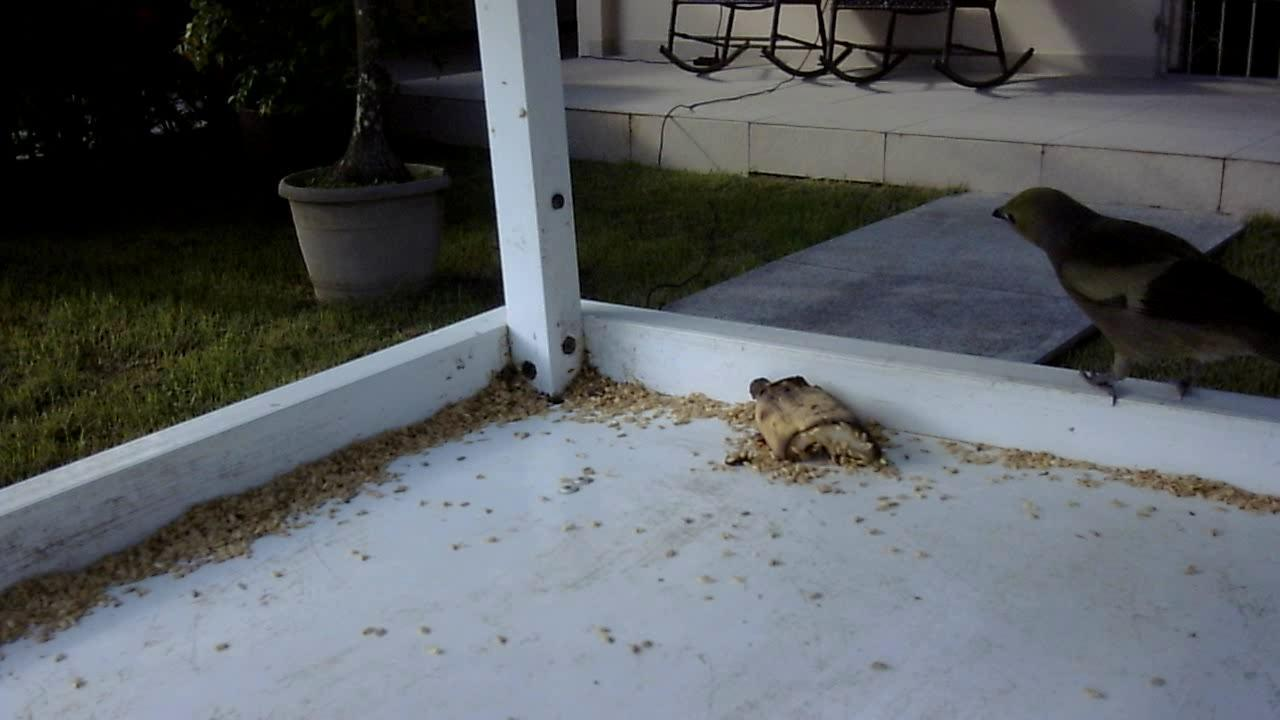sanhaco_do_coqueiro: (988, 181, 1275, 414)
